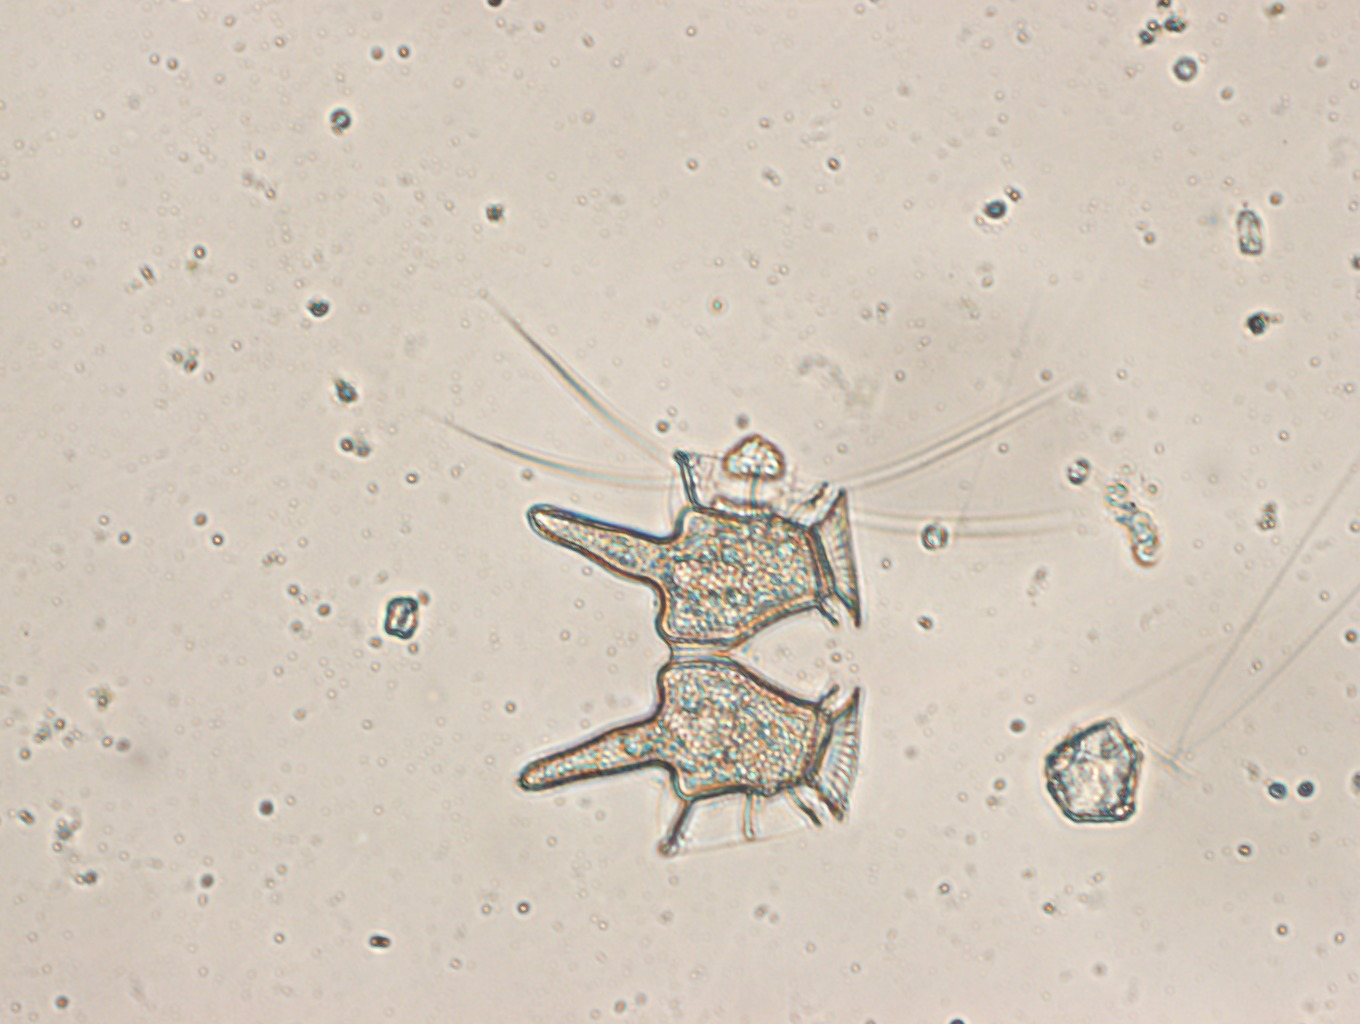dinophysis caudata: (517, 449, 862, 856)
